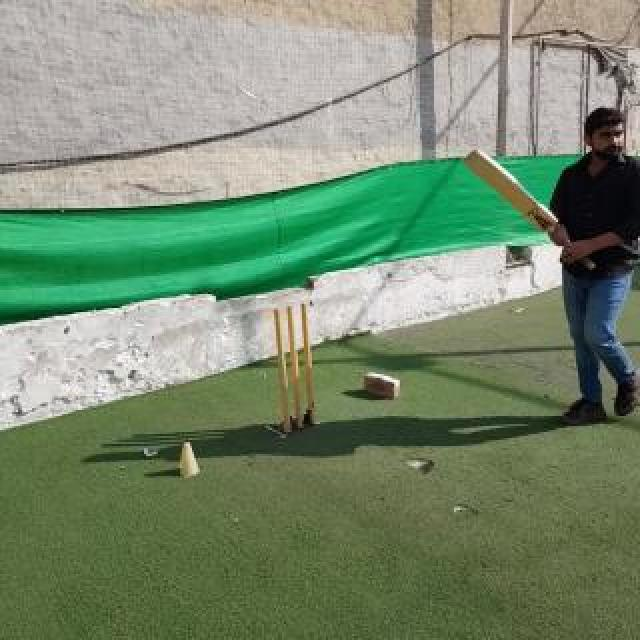bat: (465, 150, 595, 270)
